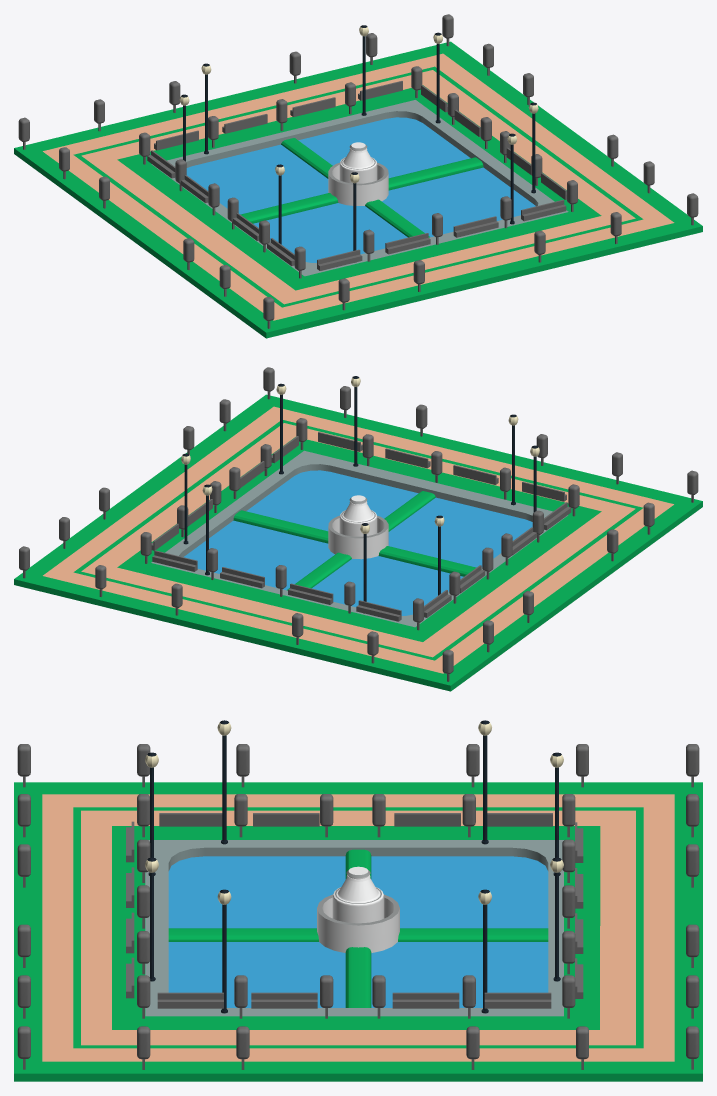
Rendered from park.fbx.
3 renders of one model, top to bottom at view 1: azimuth 30°, elevation 25°; view 2: azimuth 150°, elevation 25°; view 3: azimuth 270°, elevation 25°, orthographic. The views are drawn at different scales.
Visible parts, largest first — view 1: Park; view 2: Park; view 3: Park.
Boxes of the visible parts, x1,y1,x2,y2 form: Park: (14,14,702,338); Park: (14,367,702,691); Park: (14,720,702,1081).
Size of the model in its own units: 26.72 by 6.37 by 26.72.
